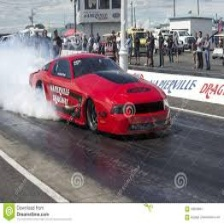smoke: (2, 44, 41, 114)
